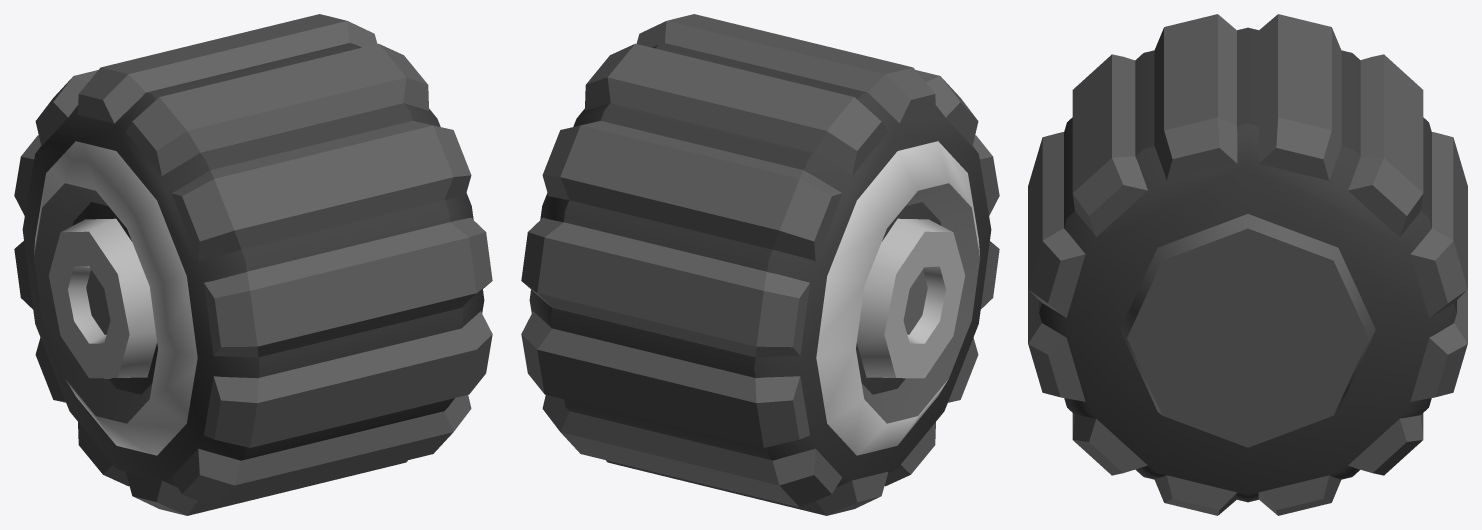
File: Wheel_001.fbx
3 views of the same model, side by side, from view 1: azimuth 30°, elevation 25°; view 2: azimuth 150°, elevation 25°; view 3: azimuth 270°, elevation 25° (orthographic). The views are drawn at different scales.
Visible parts, largest first — view 1: Wheel_001; view 2: Wheel_001; view 3: Wheel_001.
Part boxes in pixels (box(x1,y1,x2,y2)): Wheel_001: box(14, 14, 492, 515); Wheel_001: box(521, 14, 999, 515); Wheel_001: box(1028, 14, 1467, 515).
Bounding box in the file's own units: 112 × 138 × 138.
